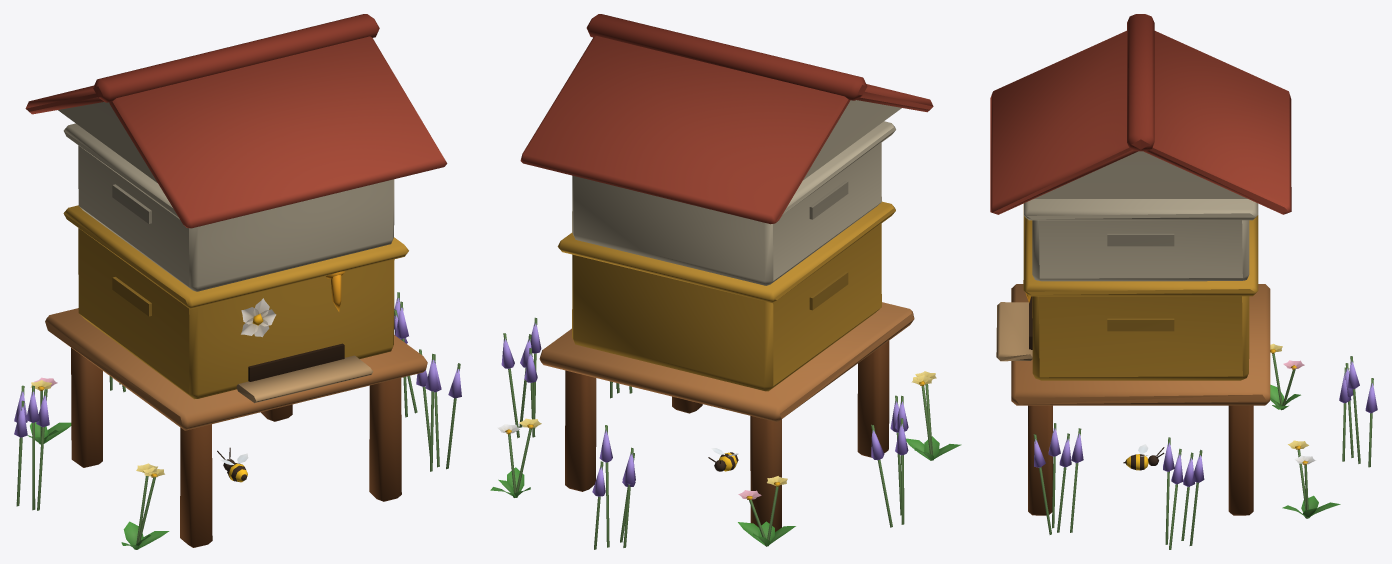
The model's file is hive.glb.
The picture shows the model from 3 angles, left to right: view 1: azimuth 30°, elevation 25°; view 2: azimuth 150°, elevation 25°; view 3: azimuth 270°, elevation 25°; orthographic projection. The views are drawn at different scales.
Visible parts, largest first — view 1: hive; view 2: hive; view 3: hive.
Boxes of the visible parts, left/top/right/bottom form: hive: left=14, top=14, right=461, bottom=549; hive: left=490, top=14, right=961, bottom=549; hive: left=990, top=14, right=1377, bottom=549.
Size of the model in its own units: 1.02 by 1.05 by 0.9275.
